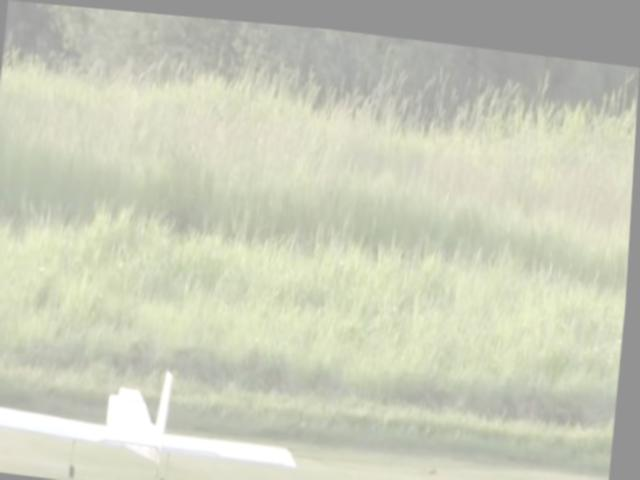uav: (0, 339, 315, 480)
